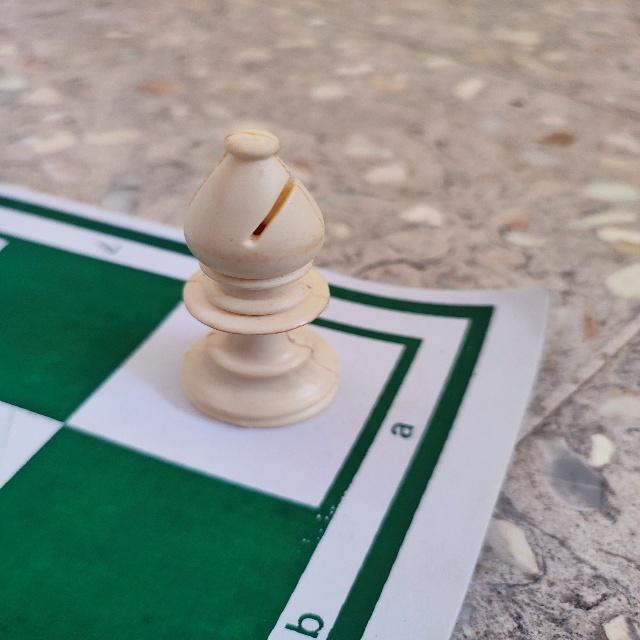Bishop: (178, 119, 344, 437)
